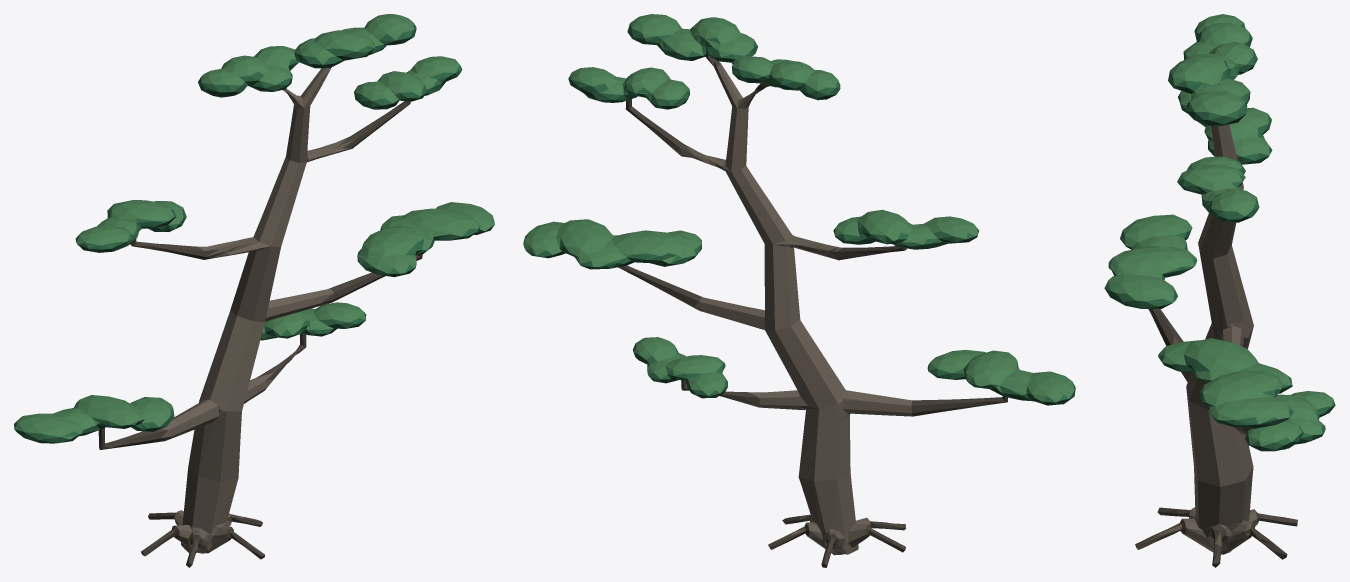
The model's file is ancient-pine-1428-lod0.glb.
3 views of the same model, side by side, from view 1: azimuth 30°, elevation 25°; view 2: azimuth 150°, elevation 25°; view 3: azimuth 270°, elevation 25° (orthographic). The views are drawn at different scales.
Parts seen in each view (by area): view 1: n8.004, n12.004, n11.004, n9.004, n10.004; view 2: n8.004, n12.004, n11.004, n9.004, n10.004; view 3: n12.004, n8.004, n11.004, n9.004, n10.004.
Part boxes in pixels (x1=…): n8.004: x1=152, y1=68, x2=362, y2=553; n12.004: x1=14, y1=14, x2=494, y2=439; n11.004: x1=14, y1=22, x2=480, y2=442; n9.004: x1=98, y1=67, x2=422, y2=567; n10.004: x1=14, y1=37, x2=494, y2=443; n8.004: x1=672, y1=57, x2=912, y2=555; n12.004: x1=523, y1=14, x2=1074, y2=402; n11.004: x1=523, y1=24, x2=1075, y2=402; n9.004: x1=618, y1=55, x2=1007, y2=567; n10.004: x1=523, y1=33, x2=1073, y2=405; n12.004: x1=1104, y1=14, x2=1332, y2=446; n8.004: x1=1154, y1=124, x2=1267, y2=554; n11.004: x1=1104, y1=23, x2=1335, y2=449; n9.004: x1=1135, y1=309, x2=1297, y2=567; n10.004: x1=1109, y1=61, x2=1335, y2=451.
Size of the model in its own units: 5.87 by 5.43 by 2.02.
